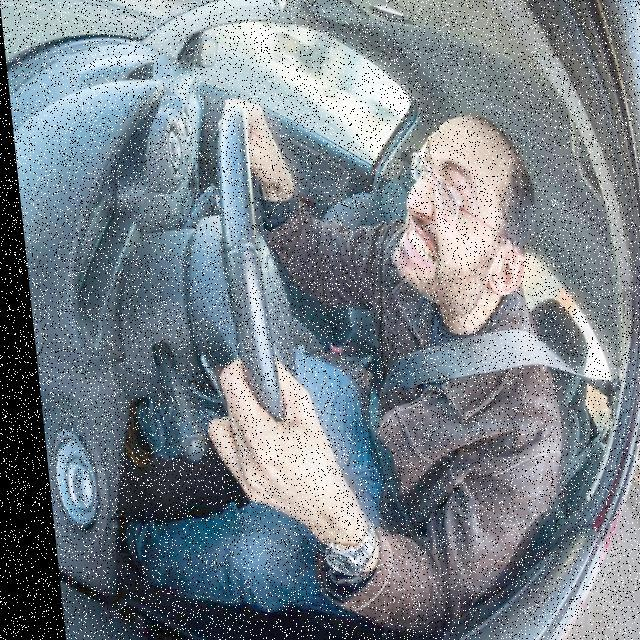seatbelt: (341, 266, 576, 590)
